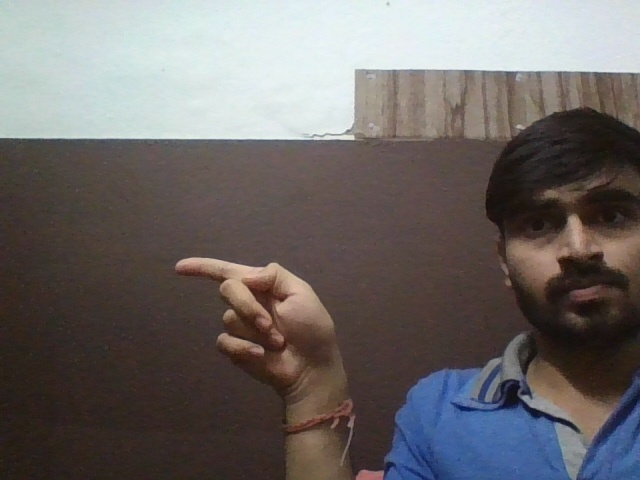G: (161, 248, 353, 389)
